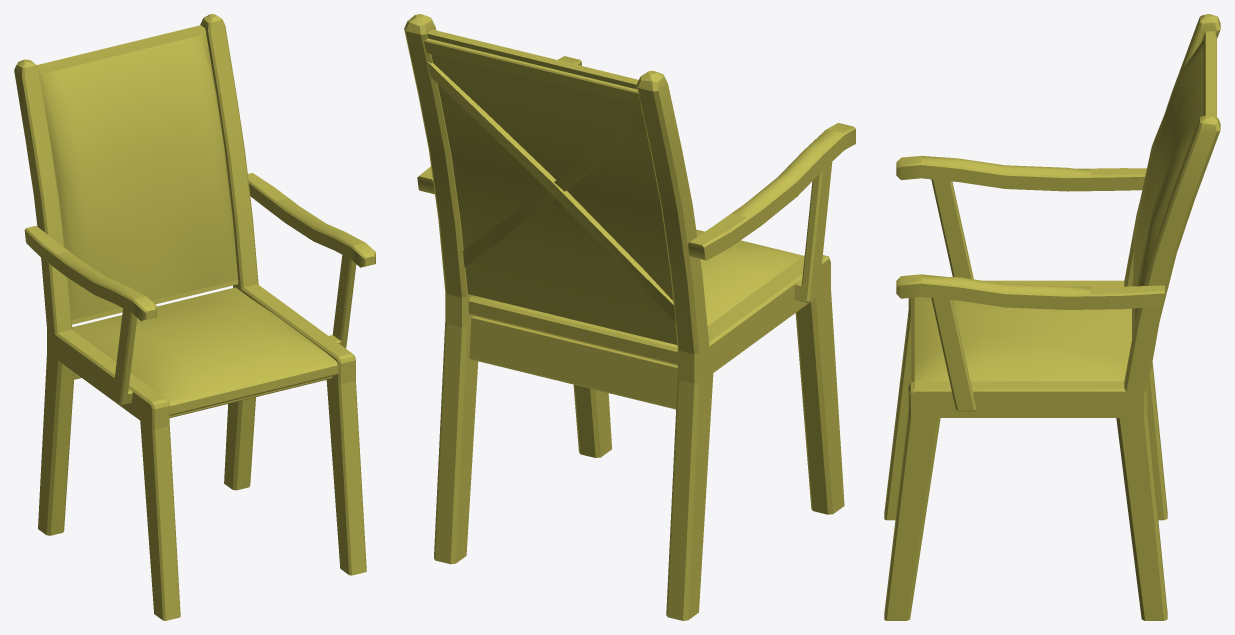
Rendered from ArmChair_Model.fbx.
3 renders of one model, left to right at view 1: azimuth 30°, elevation 25°; view 2: azimuth 150°, elevation 25°; view 3: azimuth 270°, elevation 25°, orthographic. The views are drawn at different scales.
Parts seen in each view (by area): view 1: ArmChair; view 2: ArmChair; view 3: ArmChair.
Boxes of the visible parts, x1,y1,x2,y2 form: ArmChair: [14, 14, 375, 620]; ArmChair: [404, 14, 855, 620]; ArmChair: [884, 14, 1220, 620].
Size of the model in its own units: 57.98 by 107 by 64.89.
